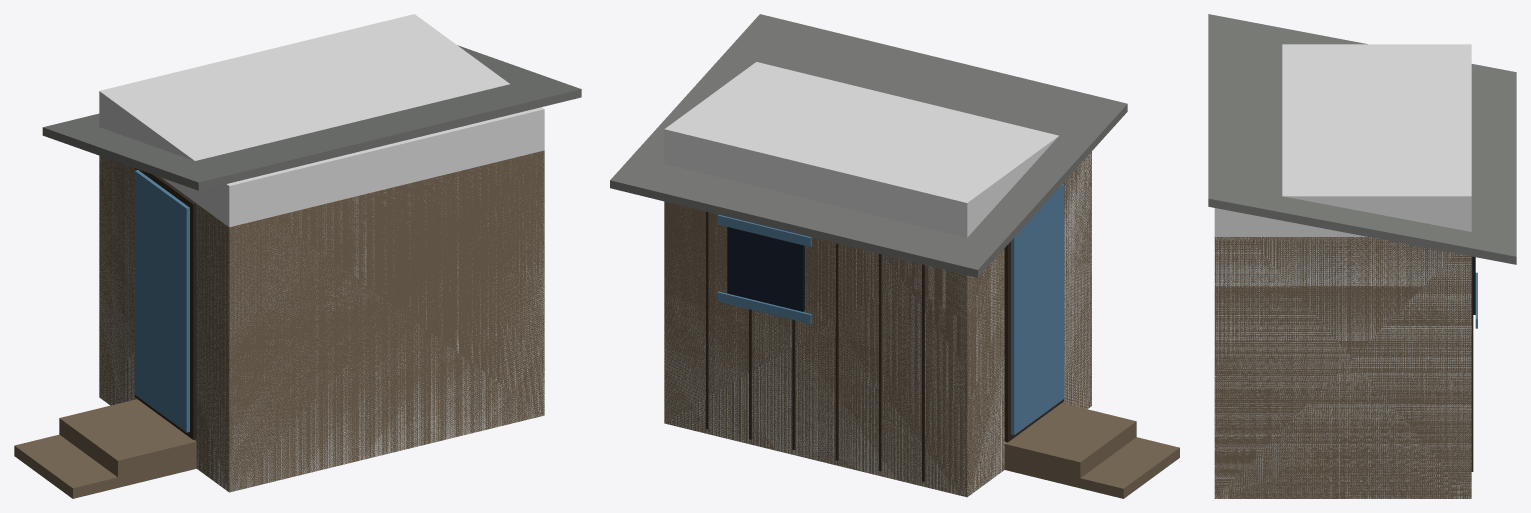
File: izba-porch-3.glb
3 renders of one model, left to right at view 1: azimuth 30°, elevation 25°; view 2: azimuth 150°, elevation 25°; view 3: azimuth 270°, elevation 25°, orthographic. The views are drawn at different scales.
Parts seen in each view (by area): view 1: 00_#7a6a56, solid, 04_paint2, 02_paint0, 01_#3a3028; view 2: 00_#7a6a56, solid, 04_paint2, 02_paint0, 01_#3a3028, 03_#1c2630; view 3: solid, 00_#7a6a56, 04_paint2, 01_#3a3028.
Part boxes in pixels (<box>): 00_#7a6a56: <box>14,150,544,498</box>; solid: <box>99,14,544,491</box>; 04_paint2: <box>42,45,581,190</box>; 02_paint0: <box>134,170,189,432</box>; 01_#3a3028: <box>135,168,196,439</box>; 00_#7a6a56: <box>664,152,1179,498</box>; solid: <box>664,62,1091,496</box>; 04_paint2: <box>610,14,1127,277</box>; 02_paint0: <box>717,183,1064,435</box>; 01_#3a3028: <box>706,182,1064,481</box>; 03_#1c2630: <box>727,227,804,311</box>; solid: <box>1214,44,1471,498</box>; 00_#7a6a56: <box>1214,237,1471,498</box>; 04_paint2: <box>1208,14,1516,264</box>; 01_#3a3028: <box>1471,256,1473,471</box>.
Size of the model in its own units: 4.2 by 2.72 by 2.4.
